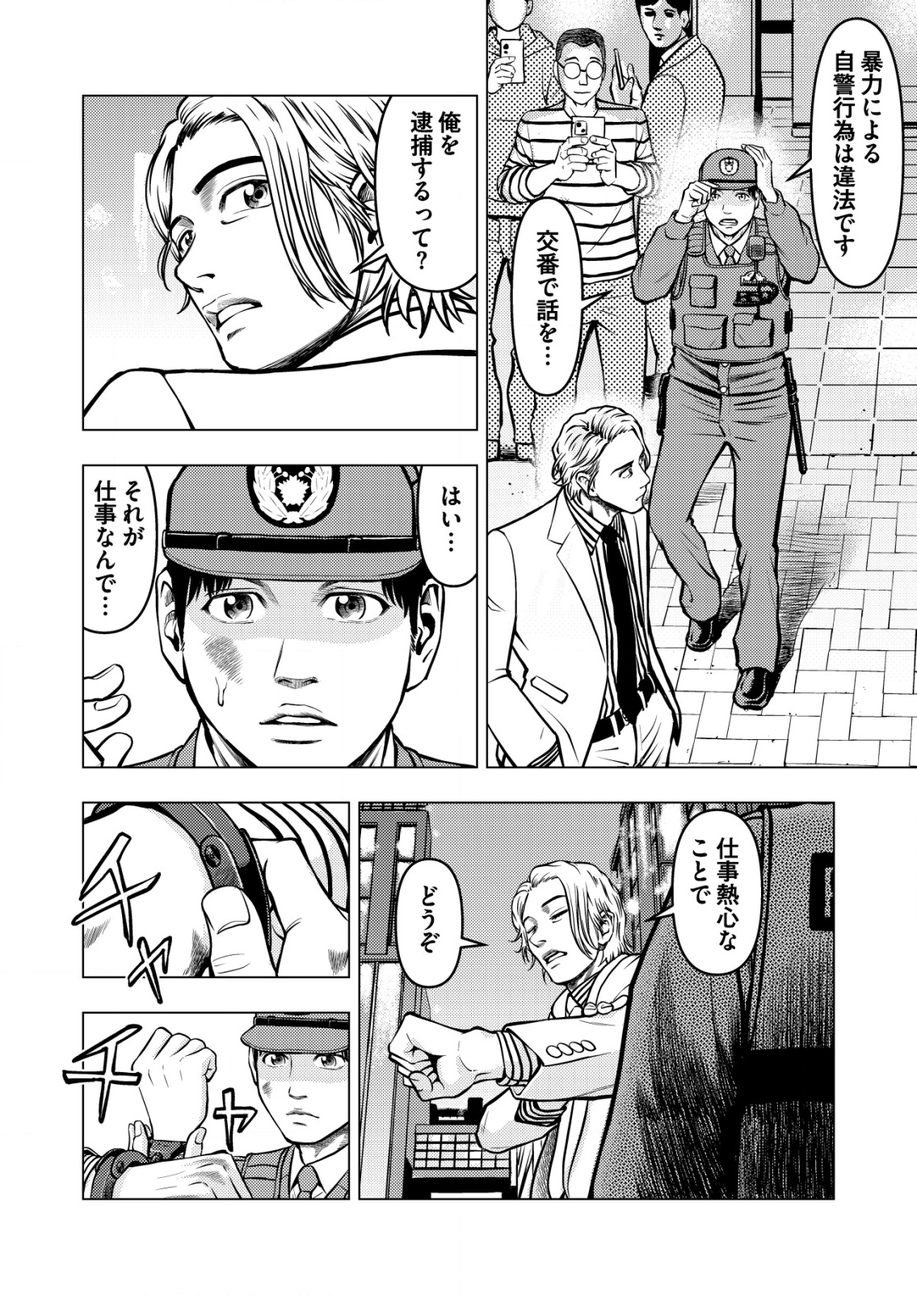bubbles: (784, 15, 917, 299), (368, 95, 479, 300), (506, 195, 607, 402), (653, 809, 761, 979), (78, 460, 162, 641), (389, 851, 490, 990), (408, 461, 485, 594)
